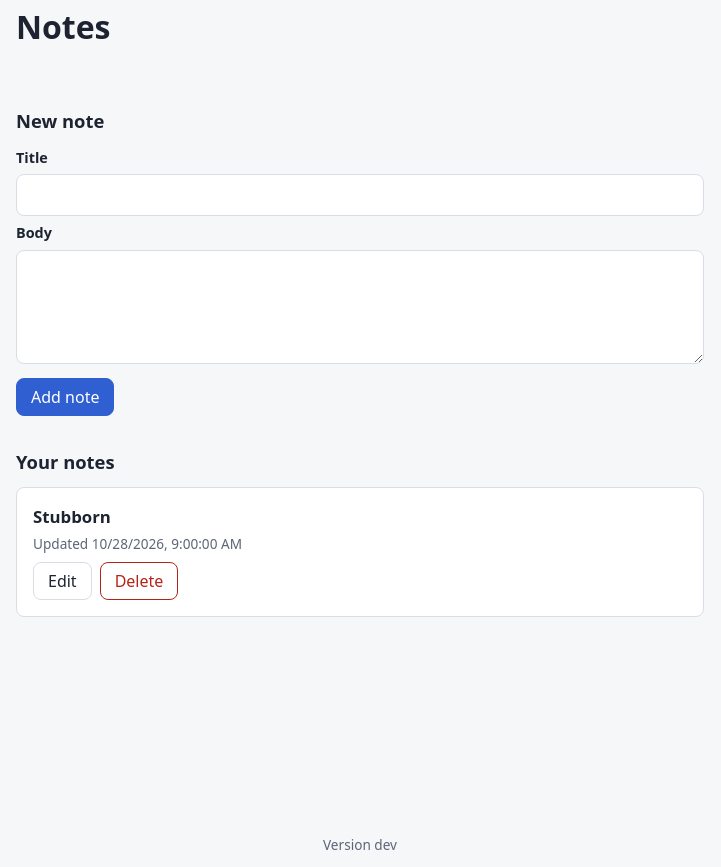
deleting a note › shows an error when the delete fails
Click the button "Delete": [139, 581] box x1=100 y1=562 x2=178 y2=600
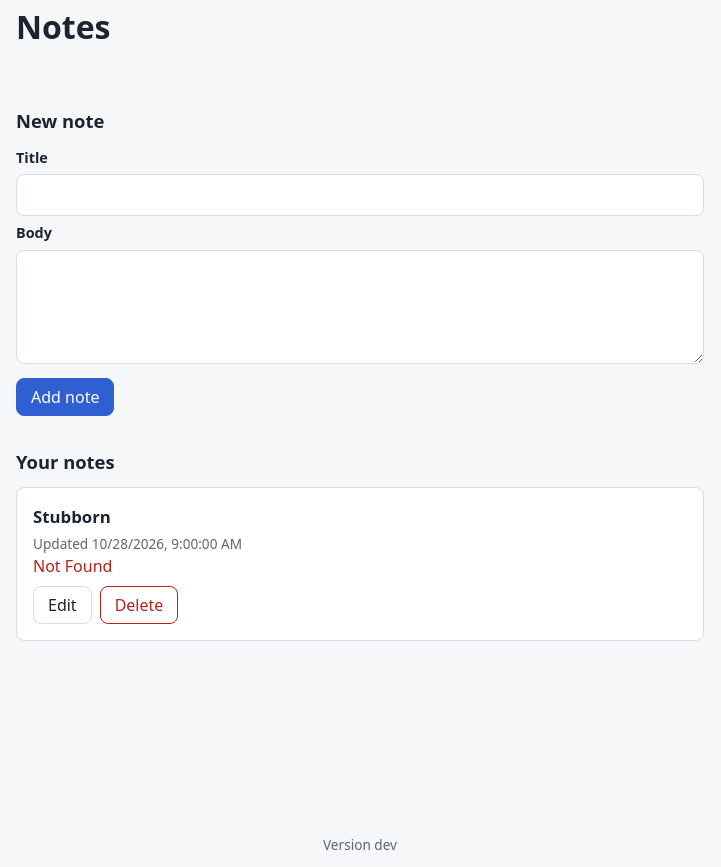
Expected: the list item "Stubborn" is shown, x1=16 y1=487 x2=704 y2=641
Expected: the message reads "Not Found", x1=33 y1=555 x2=112 y2=577
